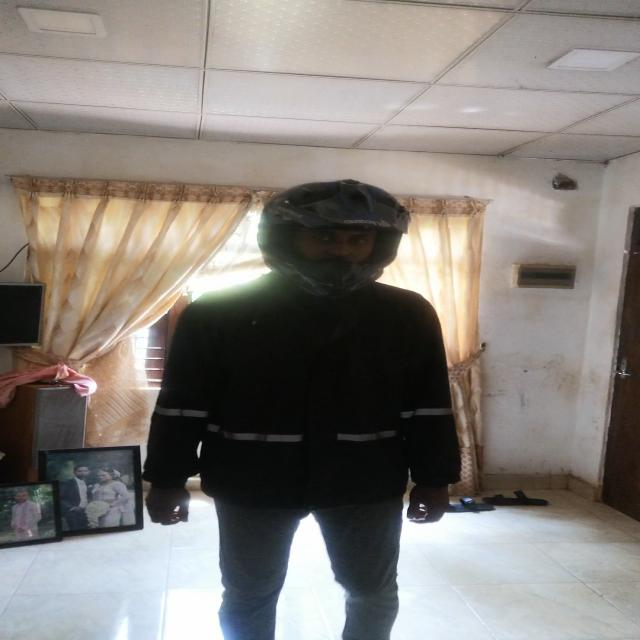Helmet_Wearer: (240, 173, 409, 296)
Jacket_Wearer: (144, 276, 466, 532)
Person: (144, 168, 464, 635)
